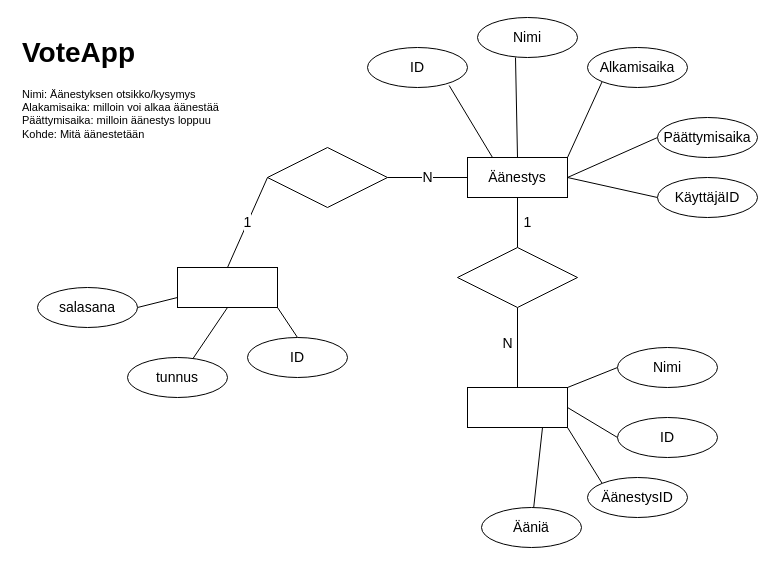
Some shapes in this 775 by 565 pixel diagram are drawn without their labels. Here are the shapes that lost their labels. From the top down, the centre of each, then its label:
At (327,177): "Omistaa".
At (227,287): "Käyttäjä".
At (517,277): "Kuuluu".
At (517,407): "Vaihtoehto".
